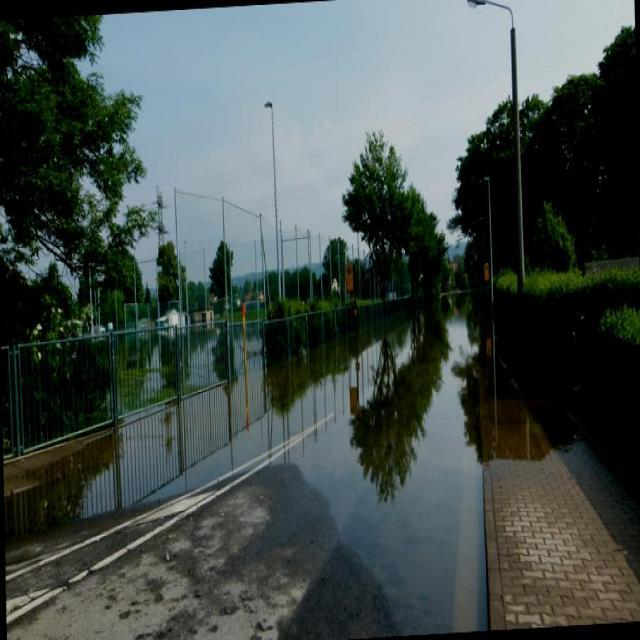flood: (135, 297, 487, 639)
